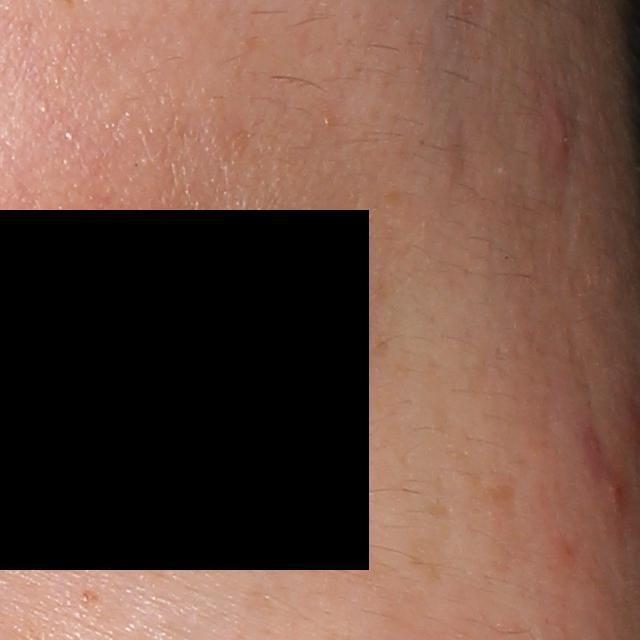melasma: (449, 448, 518, 540), (424, 498, 461, 527), (76, 587, 99, 604)
papule: (548, 107, 572, 170), (604, 478, 628, 511)
